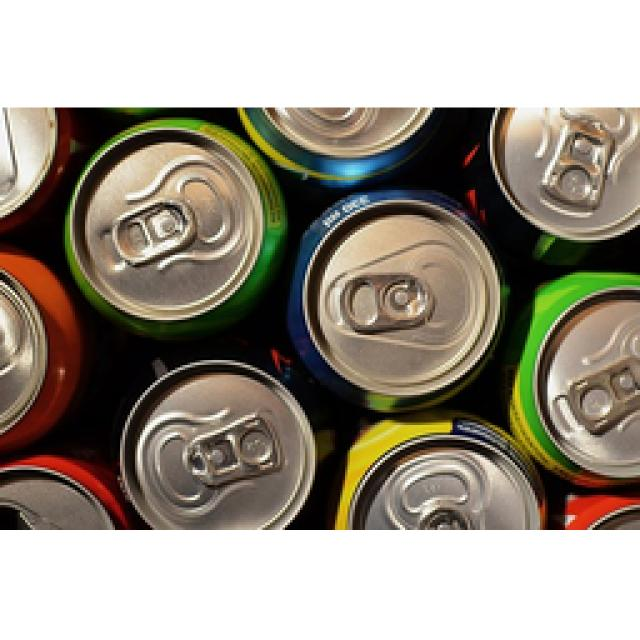aluminum_soda_cans: (62, 119, 275, 338), (300, 188, 503, 400), (125, 358, 312, 532), (497, 255, 640, 470), (330, 412, 530, 528), (482, 110, 640, 242), (0, 250, 73, 446)
